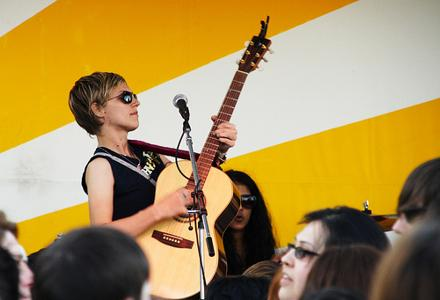person: (69, 71, 238, 243)
